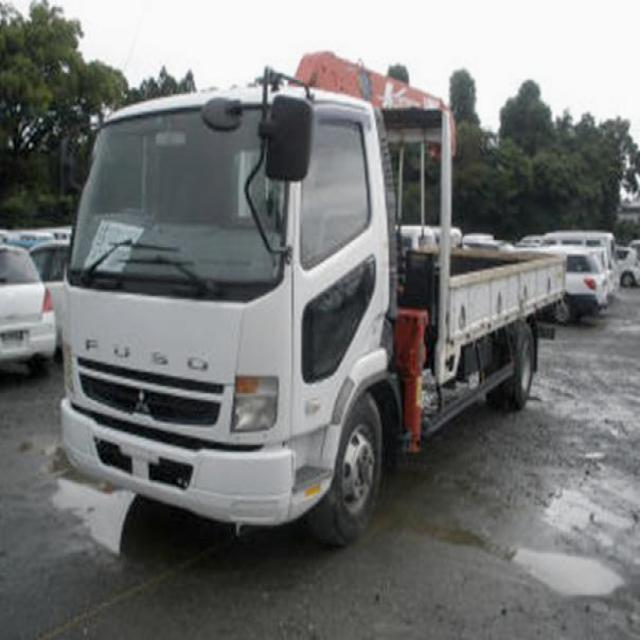truck: (58, 54, 564, 547)
